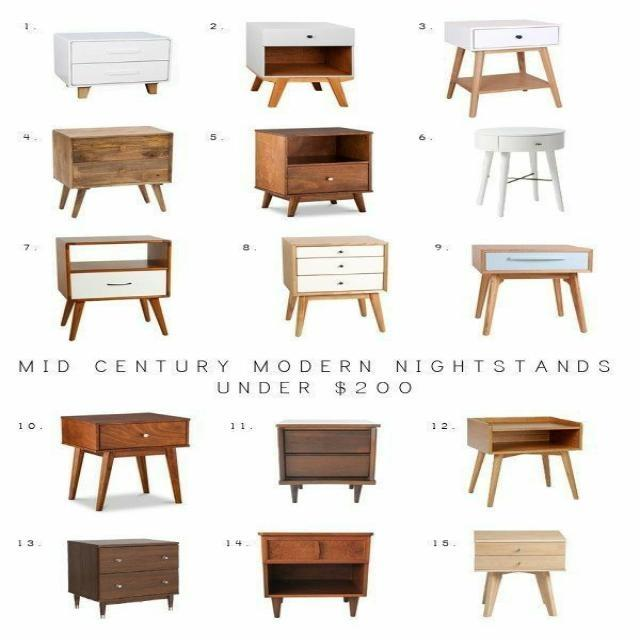obstacle: (60, 412, 190, 511), (56, 235, 170, 340), (235, 18, 374, 104), (444, 18, 565, 114), (51, 125, 173, 218), (470, 244, 593, 335), (252, 126, 374, 216), (281, 235, 388, 336), (464, 416, 582, 506), (256, 531, 374, 618), (66, 538, 179, 618), (276, 419, 380, 503), (474, 126, 566, 217), (472, 530, 566, 618), (52, 31, 171, 98)
